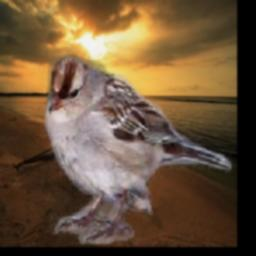Sparrow: (40, 54, 232, 244)
